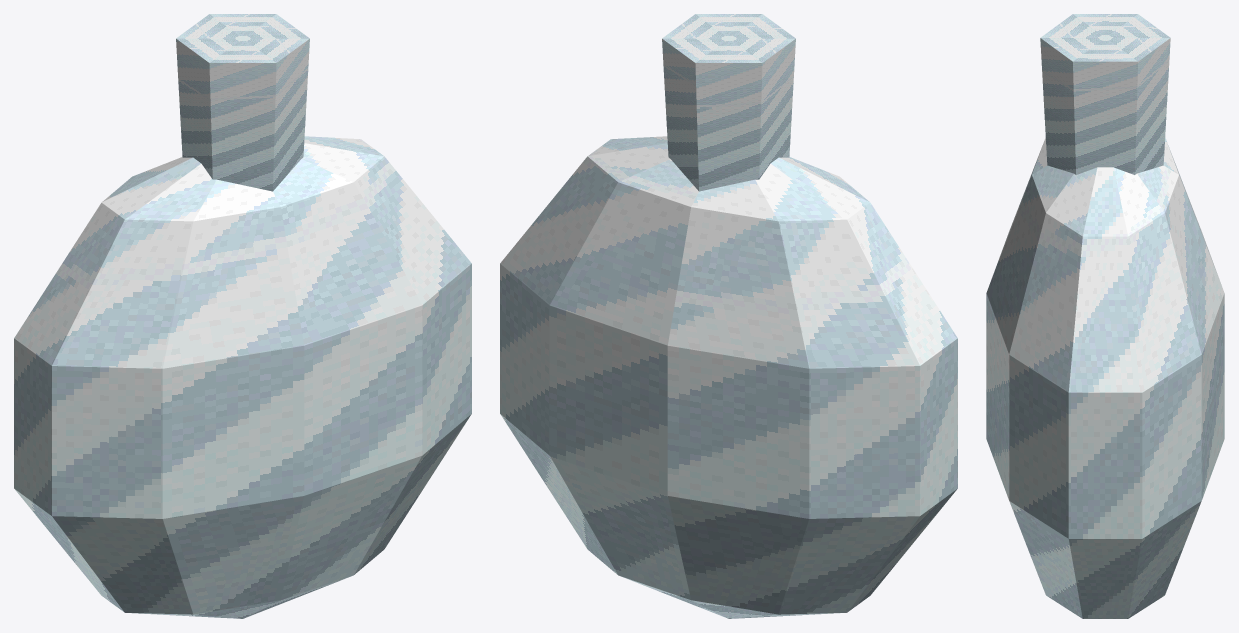
The model's file is frasco_vazio.glb.
3 renders of one model, left to right at view 1: azimuth 30°, elevation 25°; view 2: azimuth 150°, elevation 25°; view 3: azimuth 270°, elevation 25°, orthographic. The views are drawn at different scales.
Visible parts, largest first — view 1: frasco_vazio; view 2: frasco_vazio; view 3: frasco_vazio.
Part boxes in pixels (box(x1,y1,x2,y2)): frasco_vazio: box(14, 14, 471, 618); frasco_vazio: box(500, 14, 957, 618); frasco_vazio: box(986, 14, 1224, 618).
Size of the model in its own units: 0.3256 by 0.43 by 0.1643.
1 material, 1 textured.
